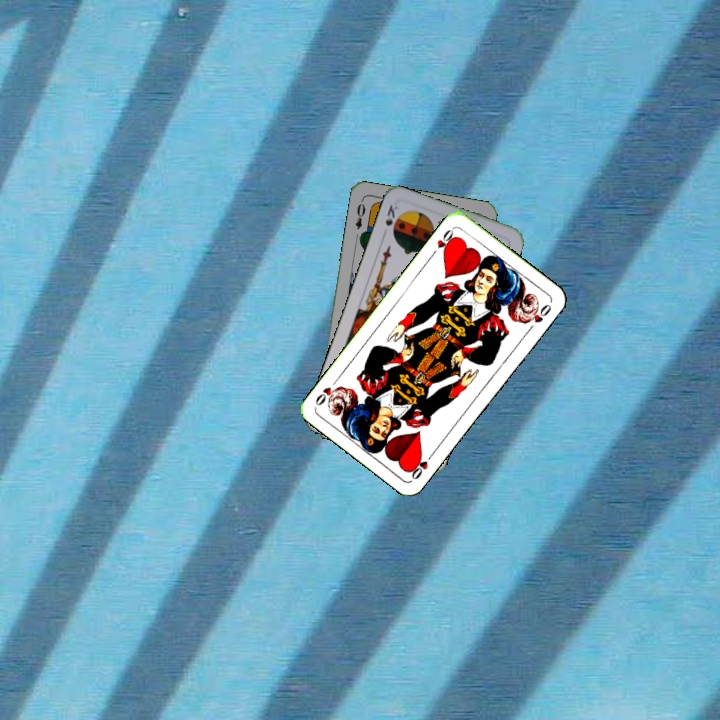EO: (351, 196, 368, 232)
HO: (427, 224, 459, 259), (406, 447, 437, 482)
SK: (381, 200, 400, 228)
